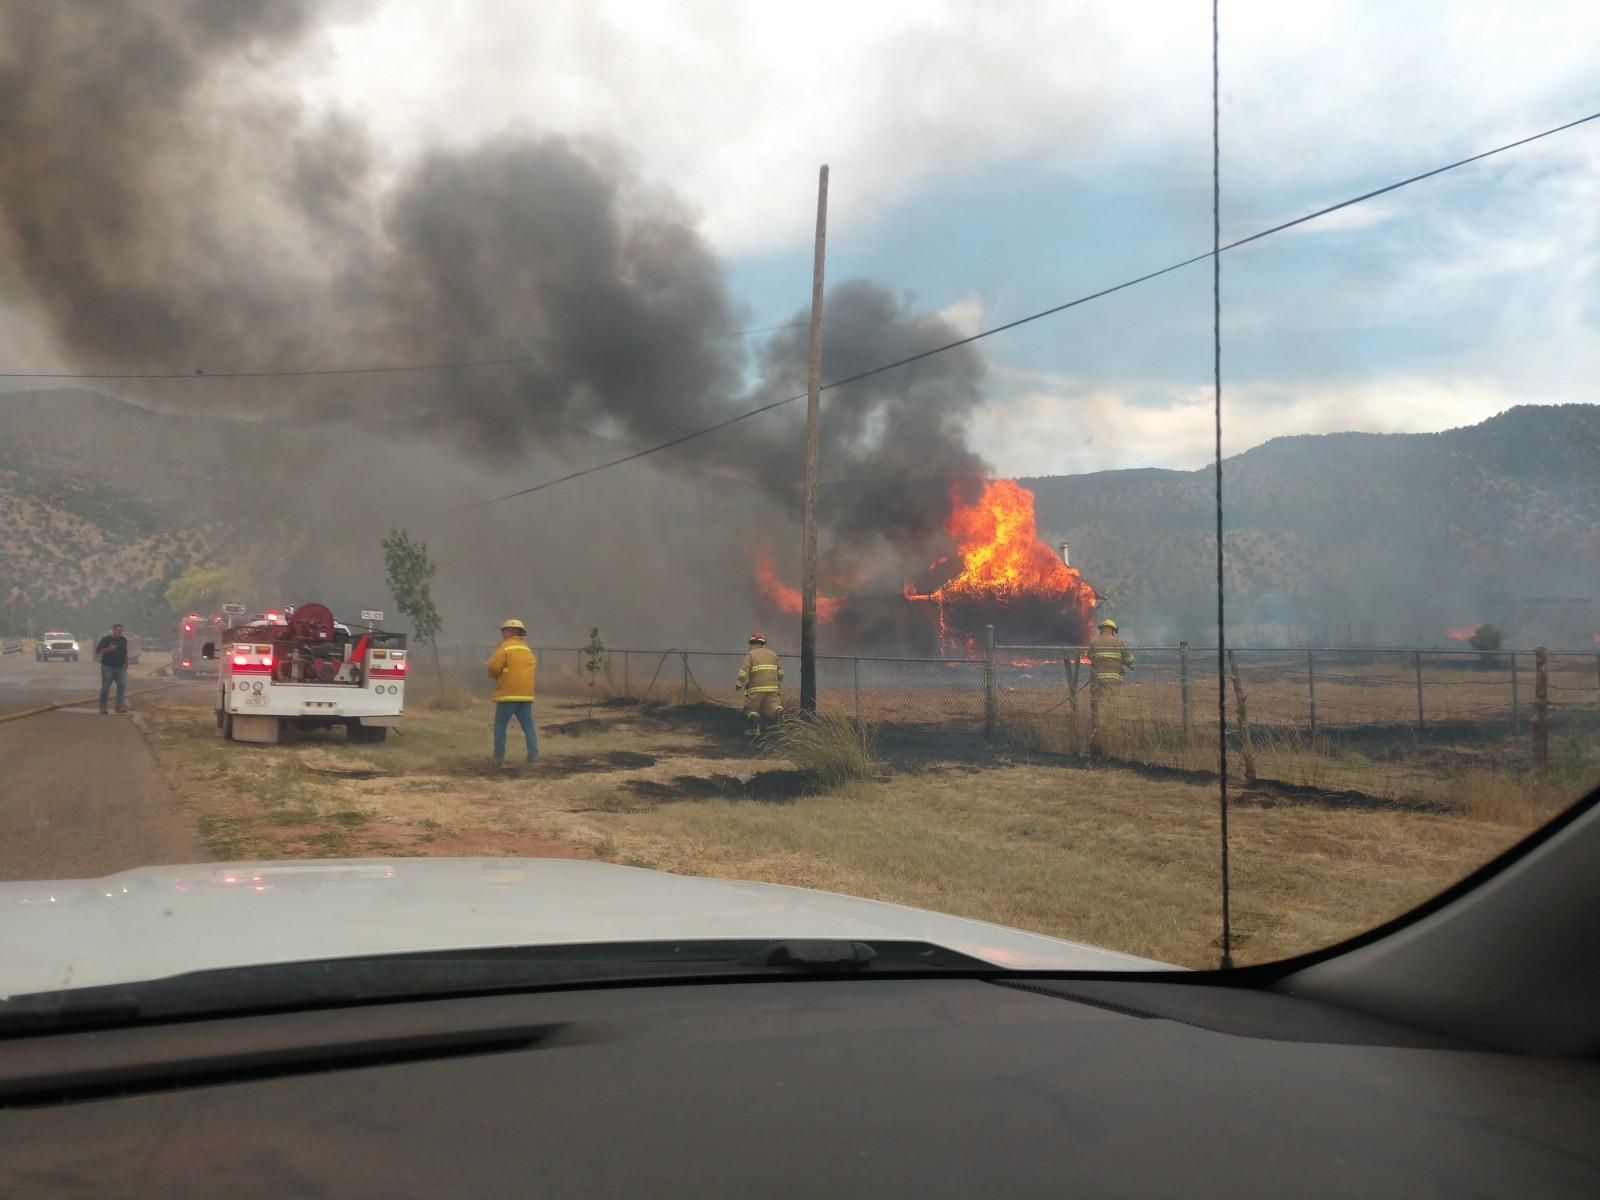Fire: (752, 445, 1121, 661)
